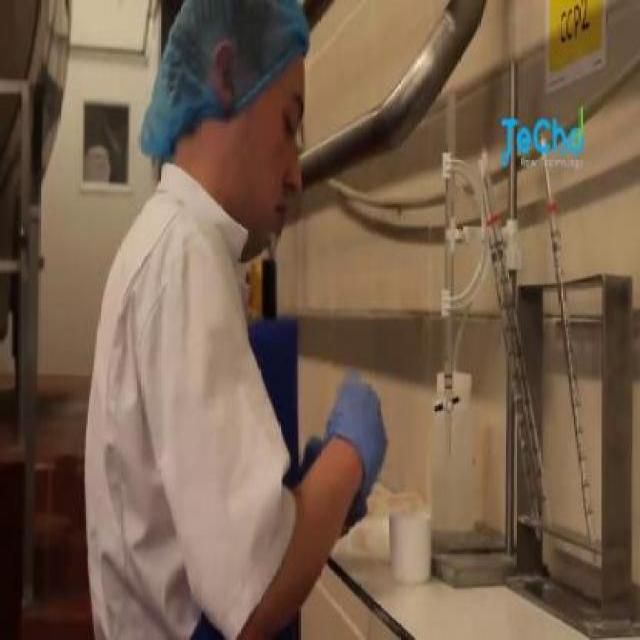hairnet: (160, 0, 303, 93)
